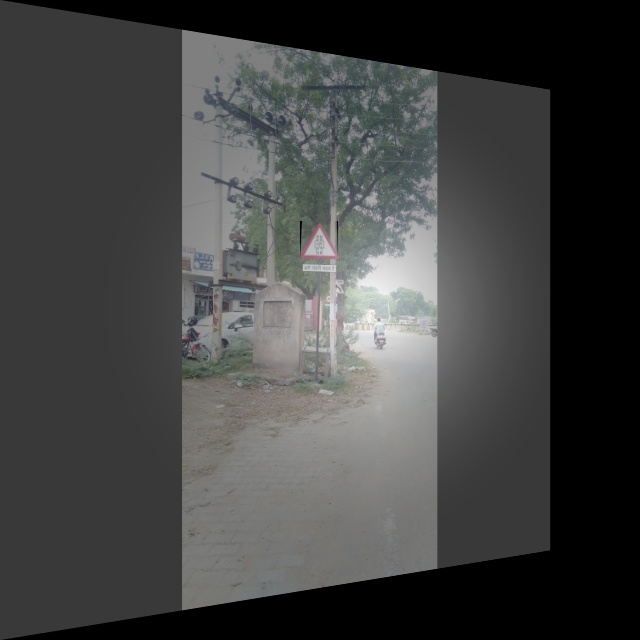Narrow_Road_Ahead: (300, 221, 338, 260)
